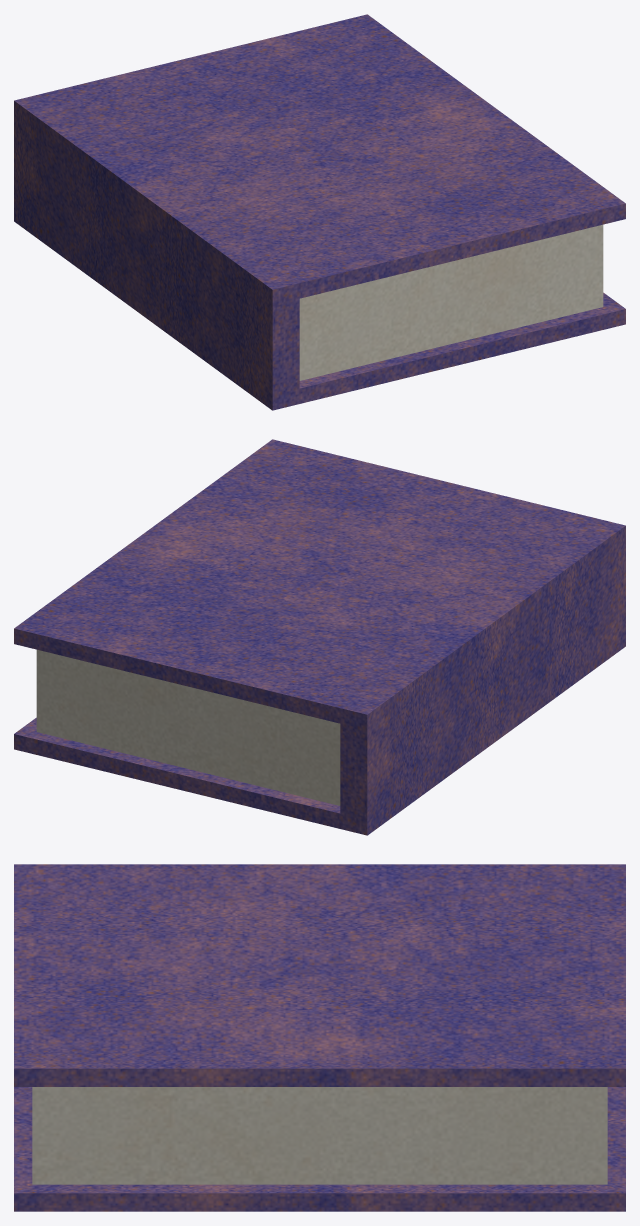
Rendered from book3.fbx.
The picture shows the model from 3 angles, top to bottom: view 1: azimuth 30°, elevation 25°; view 2: azimuth 150°, elevation 25°; view 3: azimuth 270°, elevation 25°; orthographic projection. The views are drawn at different scales.
Parts seen in each view (by area): view 1: pCube60; view 2: pCube60; view 3: pCube60.
Boxes of the visible parts, box(x1,y1,x2,y2) form: pCube60: box(14, 14, 625, 410); pCube60: box(14, 439, 625, 835); pCube60: box(14, 864, 625, 1211).
Size of the model in its own units: 0.2101 by 0.0686 by 0.2661.
